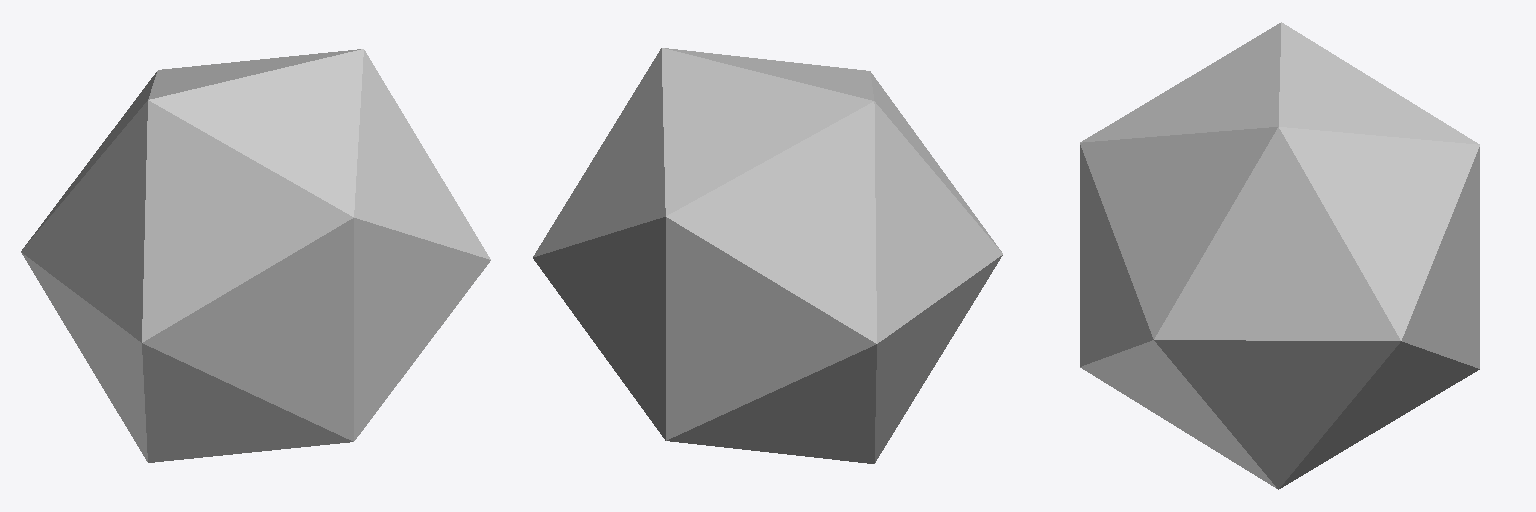
Rendered from forme1-start-test2.obj.
3 views of the same model, side by side, from view 1: azimuth 30°, elevation 25°; view 2: azimuth 150°, elevation 25°; view 3: azimuth 270°, elevation 25° (orthographic).
Visible parts, largest first — view 1: forme1_start_obj; view 2: forme1_start_obj; view 3: forme1_start_obj.
Part boxes in pixels (left/top/right/bottom): forme1_start_obj: left=21, top=49, right=490, bottom=462; forme1_start_obj: left=533, top=48, right=1002, bottom=463; forme1_start_obj: left=1080, top=22, right=1479, bottom=489.
Bounding box in the file's own units: 19.14 × 19 × 19.